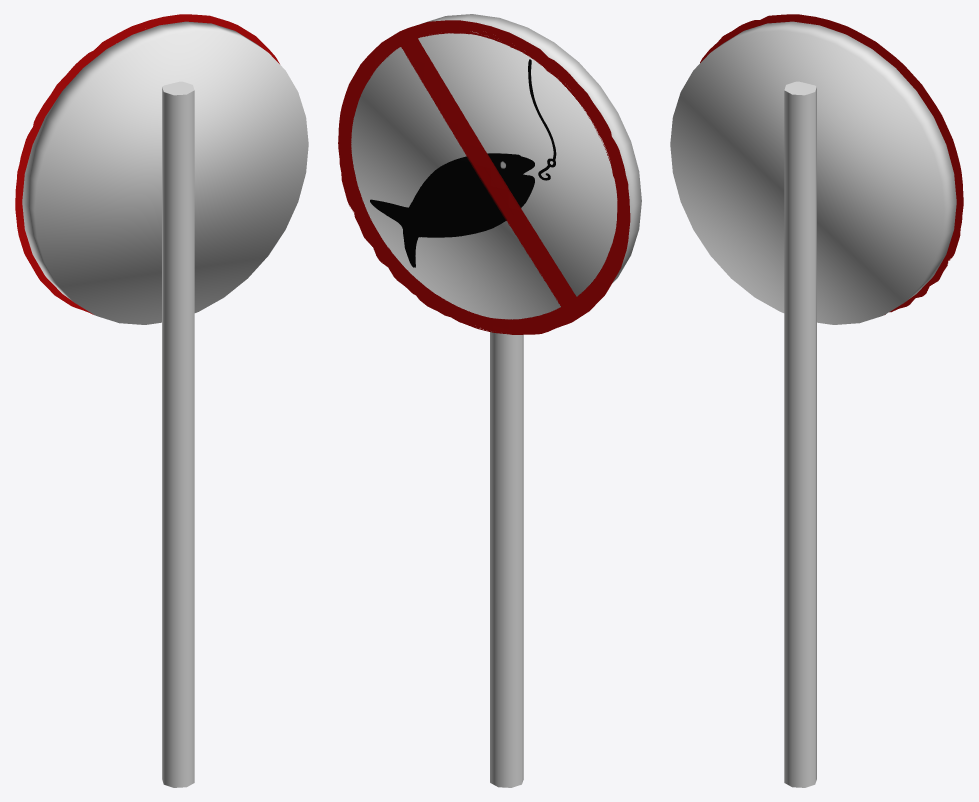
The model's file is No Fishing Sign.fbx.
The picture shows the model from 3 angles, left to right: view 1: azimuth 30°, elevation 25°; view 2: azimuth 150°, elevation 25°; view 3: azimuth 330°, elevation 25°; orthographic projection. The views are drawn at different scales.
Parts seen in each view (by area): view 1: Circle.001, Cylinder.008, No fishing; view 2: Circle.001, No fishing, Cylinder.008; view 3: Circle.001, Cylinder.008, No fishing.
Boxes of the visible parts, <box> form: Circle.001: <box>22,21,308,324</box>; Cylinder.008: <box>162,81,194,787</box>; No fishing: <box>15,14,279,314</box>; Circle.001: <box>351,14,641,319</box>; No fishing: <box>338,20,630,334</box>; Cylinder.008: <box>490,331,523,787</box>; Circle.001: <box>670,21,956,324</box>; Cylinder.008: <box>784,81,816,787</box>; No fishing: <box>700,14,963,314</box>.
Size of the model in its own units: 78.5 by 197 by 15.15.
